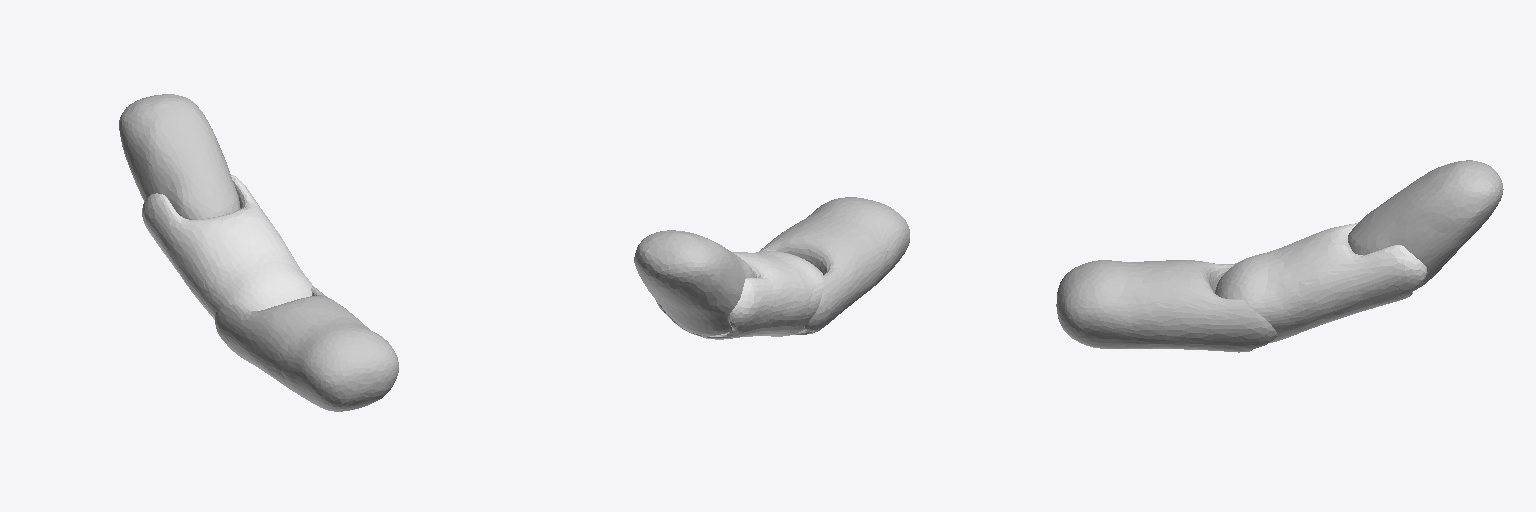
Rendered from finger_mirrored.obj.
3 renders of one model, left to right at view 1: azimuth 30°, elevation 25°; view 2: azimuth 150°, elevation 25°; view 3: azimuth 270°, elevation 25°, orthographic.
Visible parts, largest first — view 1: finger_seg_L.010; view 2: finger_seg_L.010; view 3: finger_seg_L.010.
Boxes of the visible parts, x1,y1,x2,y2 form: finger_seg_L.010: [119, 94, 398, 411]; finger_seg_L.010: [634, 197, 909, 339]; finger_seg_L.010: [1056, 160, 1503, 352].
Bounding box in the file's own units: 18.12 × 31.14 × 70.76.